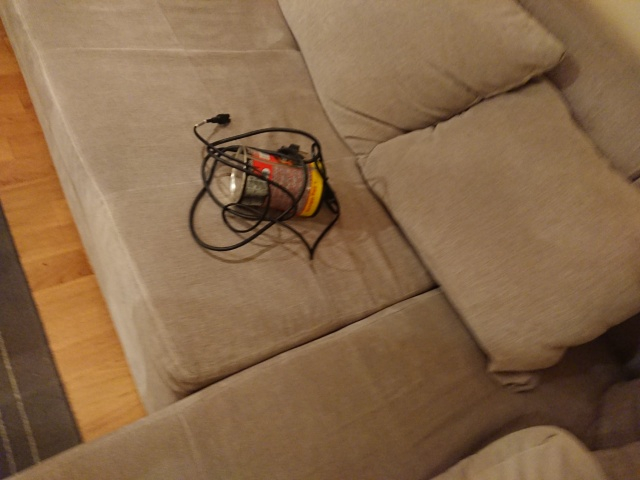Nescafe Classic 225g: (227, 143, 328, 222)
